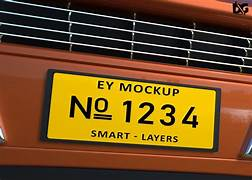number_plate: (52, 69, 214, 150)
